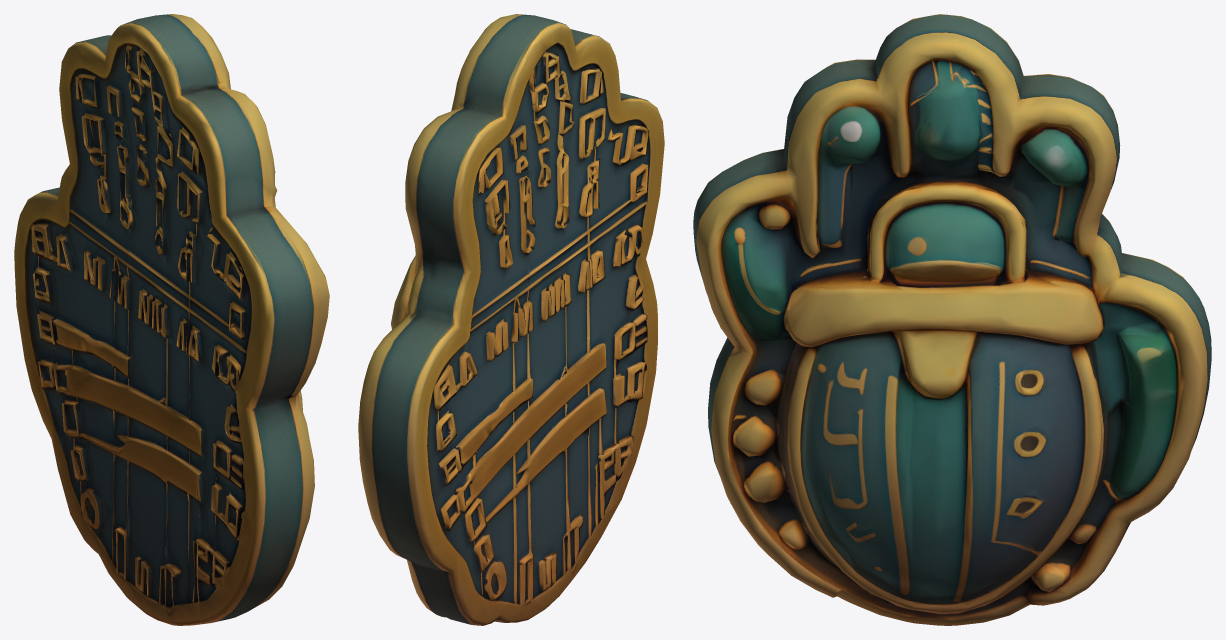
File: golden_scarab.glb
3 views of the same model, side by side, from view 1: azimuth 30°, elevation 25°; view 2: azimuth 150°, elevation 25°; view 3: azimuth 270°, elevation 25° (orthographic). The views are drawn at different scales.
Visible parts, largest first — view 1: tripo_node_d09e5164-ef55-452f-a571-252e16c525a7; view 2: tripo_node_d09e5164-ef55-452f-a571-252e16c525a7; view 3: tripo_node_d09e5164-ef55-452f-a571-252e16c525a7.
Part boxes in pixels (x1,y1,x2,y2): tripo_node_d09e5164-ef55-452f-a571-252e16c525a7: [14, 14, 329, 625]; tripo_node_d09e5164-ef55-452f-a571-252e16c525a7: [358, 14, 664, 625]; tripo_node_d09e5164-ef55-452f-a571-252e16c525a7: [693, 14, 1211, 625].
Bounding box in the file's own units: 0.2359 × 0.9995 × 0.7883.
Materials: 1 (1 with a texture image).
